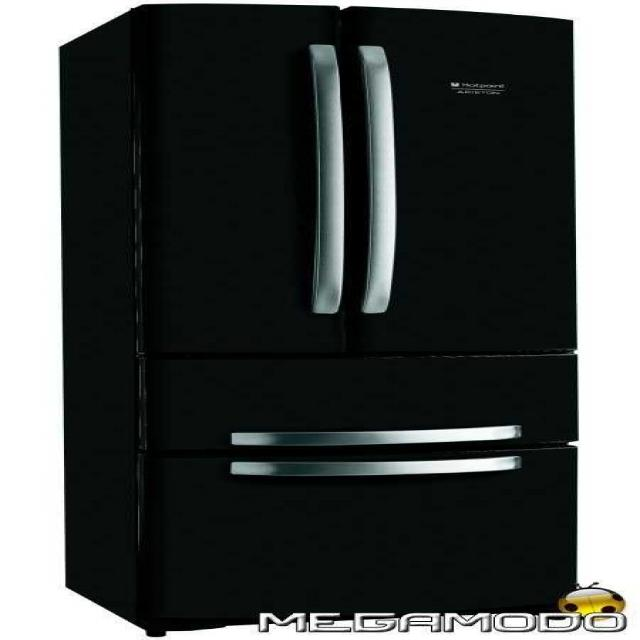refrigerator: (134, 3, 586, 622)
